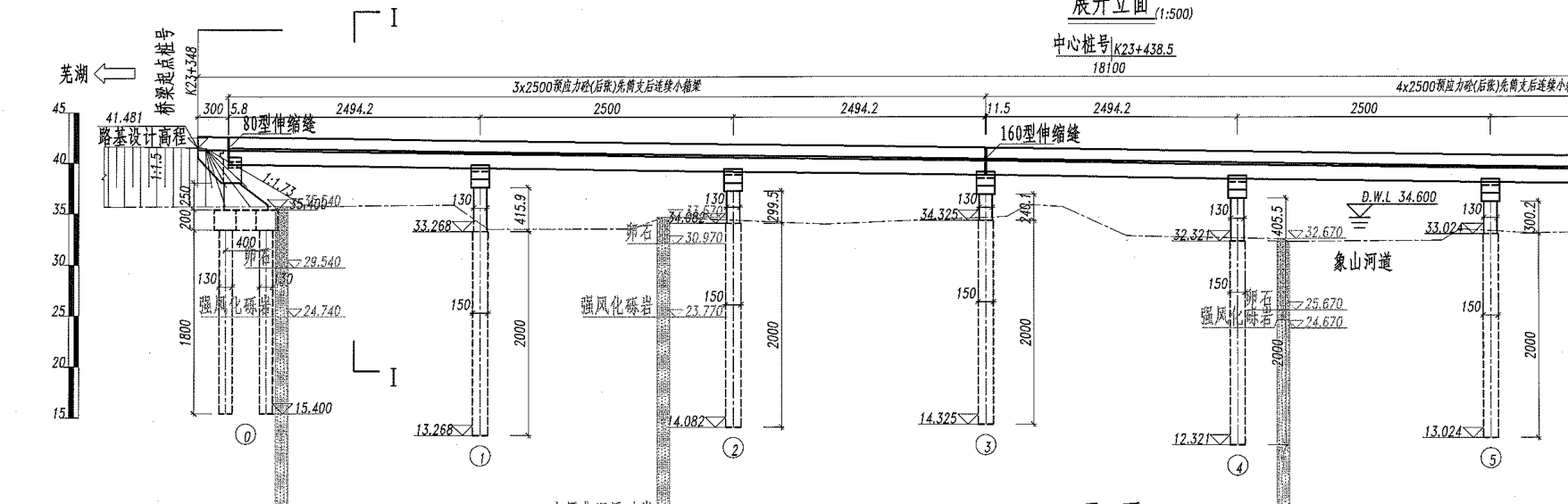A: (192, 61, 1562, 87)
B: (217, 66, 987, 110), (965, 78, 1568, 104)
C: (402, 160, 506, 474), (1161, 169, 1261, 483), (1414, 172, 1515, 475), (908, 164, 1010, 459), (674, 162, 756, 464)
D: (1341, 187, 1439, 232)
